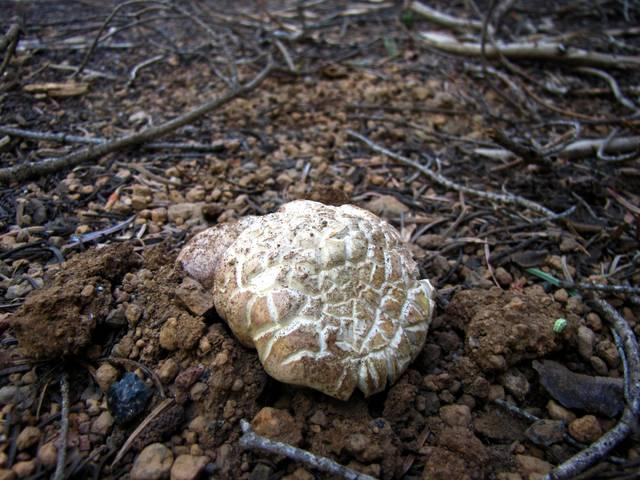edible_mushroom: (174, 197, 437, 401)
